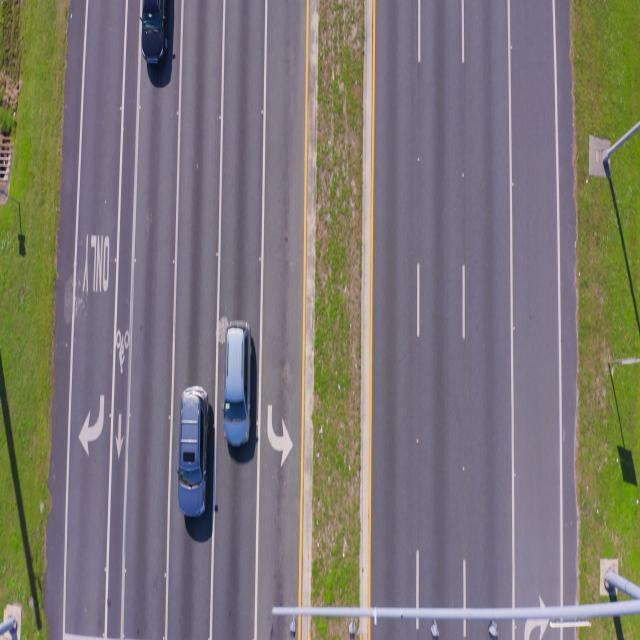vehicle: (178, 384, 210, 520), (223, 319, 253, 452), (140, 0, 168, 64)
